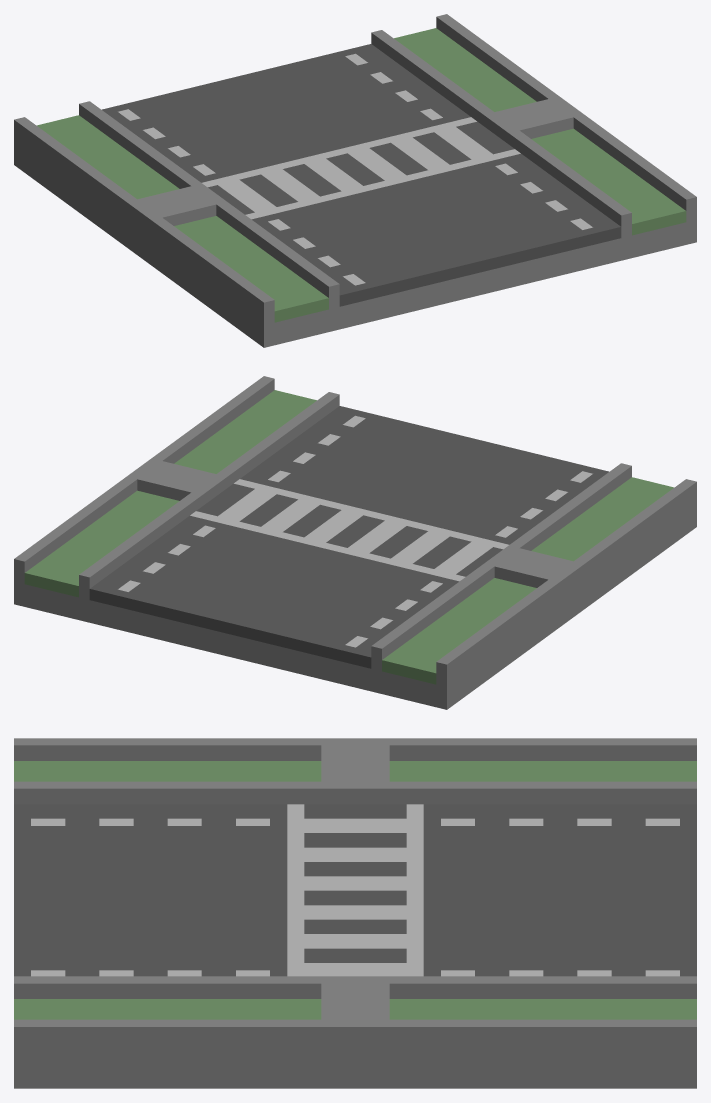
The model's file is RoadVerFinish.vox-0-RoadHor.vox.obj.
3 renders of one model, top to bottom at view 1: azimuth 30°, elevation 25°; view 2: azimuth 150°, elevation 25°; view 3: azimuth 270°, elevation 25°, orthographic. The views are drawn at different scales.
Parts seen in each view (by area): view 1: RoadHor; view 2: RoadHor; view 3: RoadHor.
Boxes of the visible parts, x1,y1,x2,y2 form: RoadHor: [14, 14, 696, 347]; RoadHor: [14, 376, 696, 709]; RoadHor: [14, 738, 696, 1088].
Bounding box in the file's own units: 4 × 0.4 × 4.
Materials: 1 (1 with a texture image).
